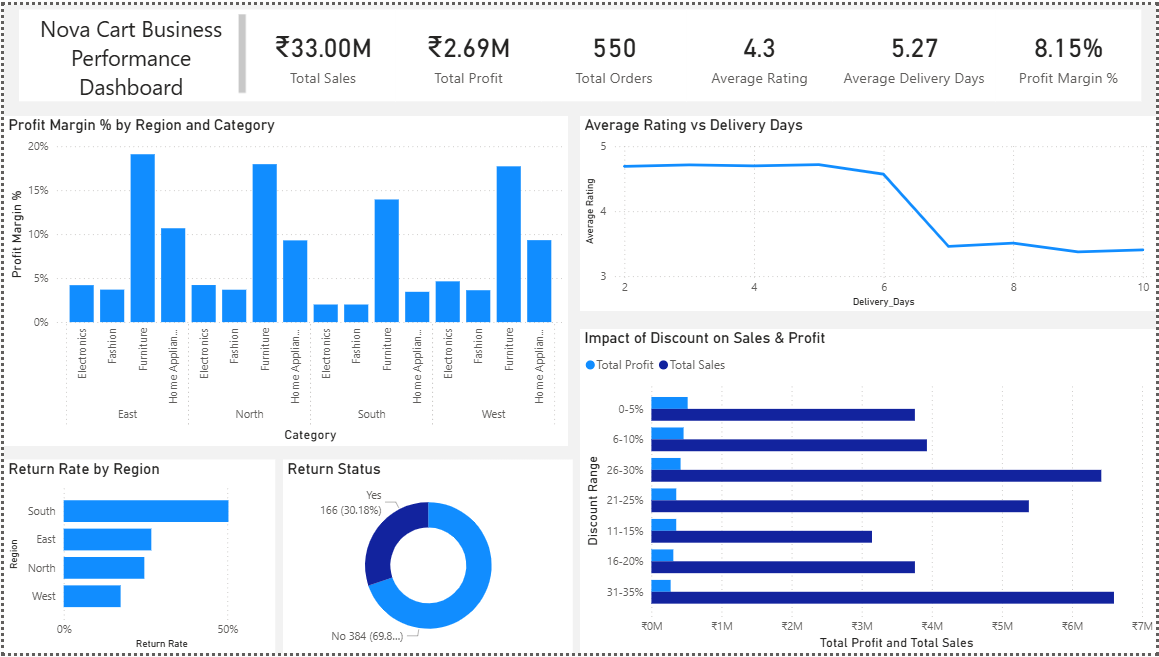

The page's visual inventory and layout, read from the dashboard file:
{"tool":"powerbi","page":{"name":"Page 2","canvas":[1280,720],"ordinal":1},"visuals":[{"type":"card","fields":{"Values":["Orders.Total Sales"]},"box":[273.4,5.4,161.7,101.7],"z":1000},{"type":"card","fields":{"Values":["Orders.Total Profit"]},"box":[435.1,5.4,161.7,101.7],"z":2000},{"type":"card","fields":{"Values":["Orders.Average Rating"]},"box":[758.4,5.4,161.7,101.7],"z":3000},{"type":"card","fields":{"Values":["Orders.Total Orders"]},"box":[596.7,5.4,161.7,101.7],"z":4000},{"type":"card","fields":{"Values":["Orders.Average Delivery Days"]},"box":[920.1,5.4,181.7,101.7],"z":5000},{"type":"card","fields":{"Values":["Orders.Profit Margin %"]},"box":[1101.7,5.4,161.7,101.7],"z":6000},{"type":"textbox","box":[17.3,5.4,256.7,101.7],"z":7000},{"type":"clusteredBarChart","title":"Impact of Discount on  Sales & Profit","fields":{"Category":["Orders.Discount Range"],"Y":["Orders.Total Profit","Orders.Total Sales"]},"box":[639.6,359.5,641.2,361.1],"z":11000},{"type":"lineChart","title":"Average Rating vs Delivery Days","fields":{"Category":["Orders.Delivery_Days"],"Y":["Orders.Average Rating"]},"box":[640,123.3,640,216.7],"z":12000},{"type":"clusteredColumnChart","fields":{"Category":["Orders.Region","Orders.Category"],"Y":["Orders.Profit Margin %"]},"box":[0,123.3,626.7,366.7],"z":13000},{"type":"clusteredBarChart","fields":{"Category":["Orders.Region"],"Y":["Orders.Return Rate"]},"box":[0,505.2,301.2,215.4],"z":14000},{"type":"donutChart","title":"Return Status","fields":{"Y":["CountNonNull(Orders.Order_ID)"],"Category":["Orders.Returned"]},"box":[309.3,504.6,322.2,215.4],"z":15000}]}

Visuals, with their boxes in screenshot pixels (x1, y1, x2, y2), scaled from the page's 1280x720 canvas onto the 1159x657 screenshot:
card - Orders.Total Sales: bbox=[248, 5, 394, 98]
card - Orders.Total Profit: bbox=[394, 5, 540, 98]
card - Orders.Average Rating: bbox=[687, 5, 833, 98]
card - Orders.Total Orders: bbox=[540, 5, 687, 98]
card - Orders.Average Delivery Days: bbox=[833, 5, 998, 98]
card - Orders.Profit Margin %: bbox=[998, 5, 1144, 98]
textbox: bbox=[16, 5, 248, 98]
"Impact of Discount on  Sales & Profit" clusteredBarChart: bbox=[579, 328, 1158, 656]
"Average Rating vs Delivery Days" lineChart: bbox=[580, 113, 1158, 310]
clusteredColumnChart - Orders.Region x Orders.Category: bbox=[0, 113, 567, 447]
clusteredBarChart - Orders.Region x Orders.Return Rate: bbox=[0, 461, 273, 656]
"Return Status" donutChart: bbox=[280, 460, 572, 656]
